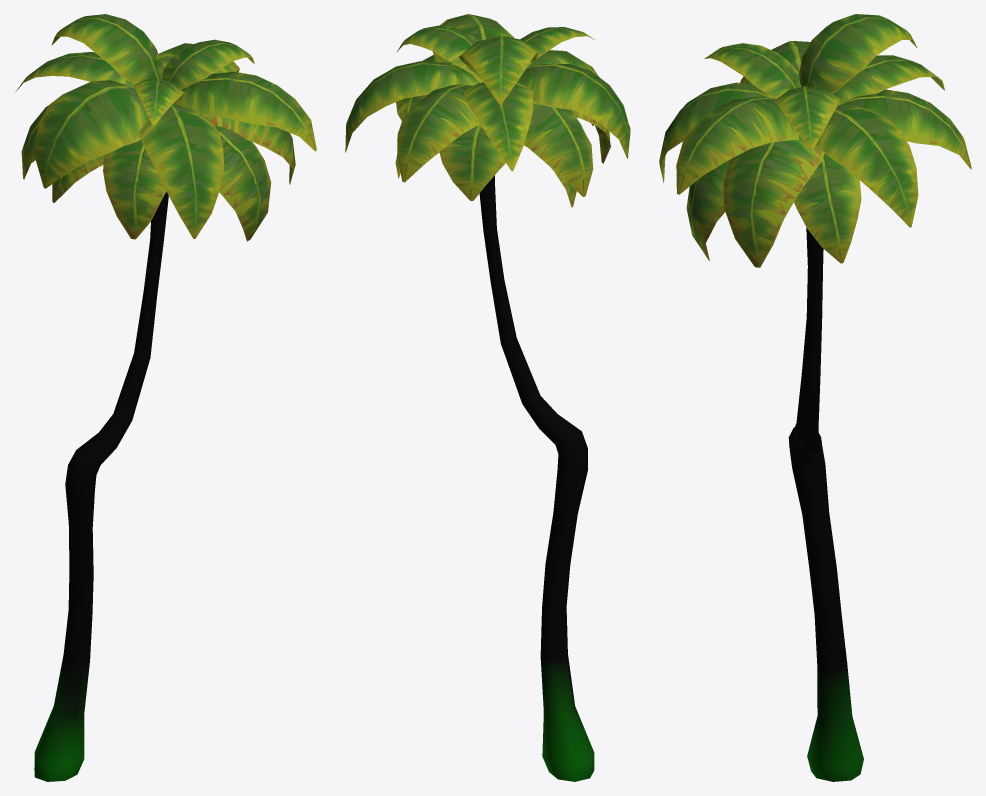
Rendered from P_PalmTree13.obj.
The picture shows the model from 3 angles, left to right: view 1: azimuth 30°, elevation 25°; view 2: azimuth 150°, elevation 25°; view 3: azimuth 270°, elevation 25°; orthographic projection. The views are drawn at different scales.
Bounding box in the file's own units: 7.2 × 21 × 7.57.
